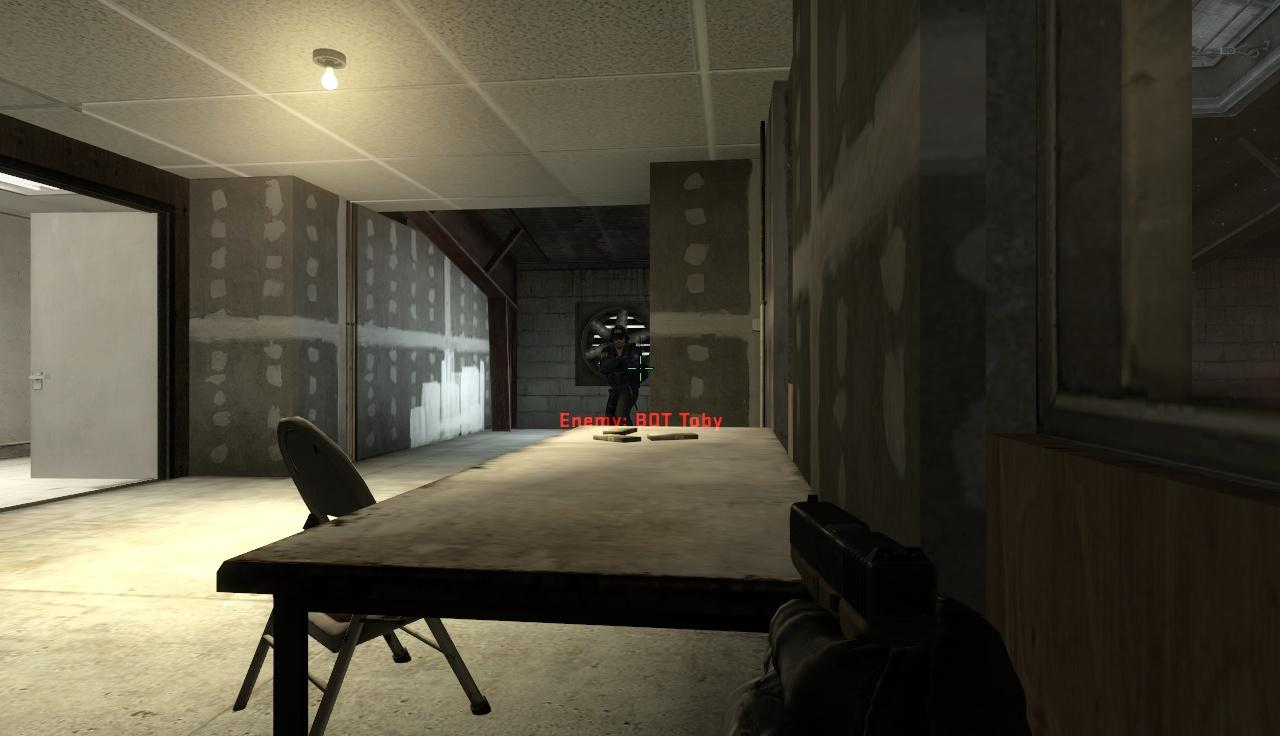ct: (598, 326, 642, 428)
cthead: (609, 325, 629, 349)
pistol: (775, 495, 1037, 736)
